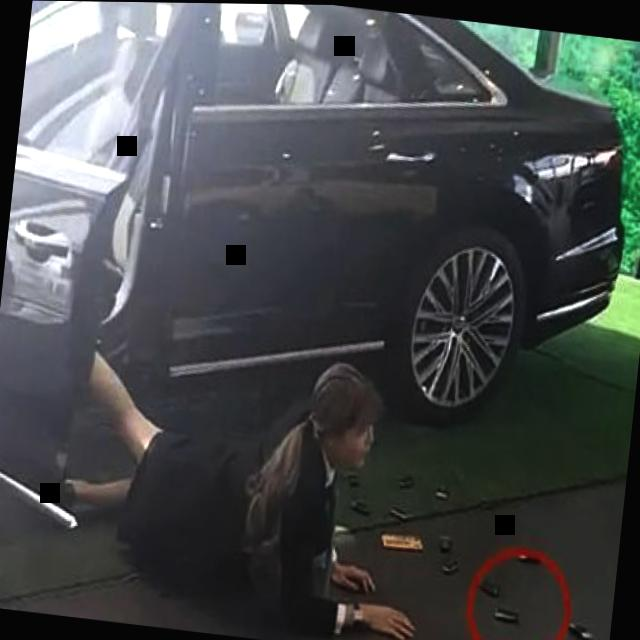Fall-Detected: (18, 292, 468, 640)
